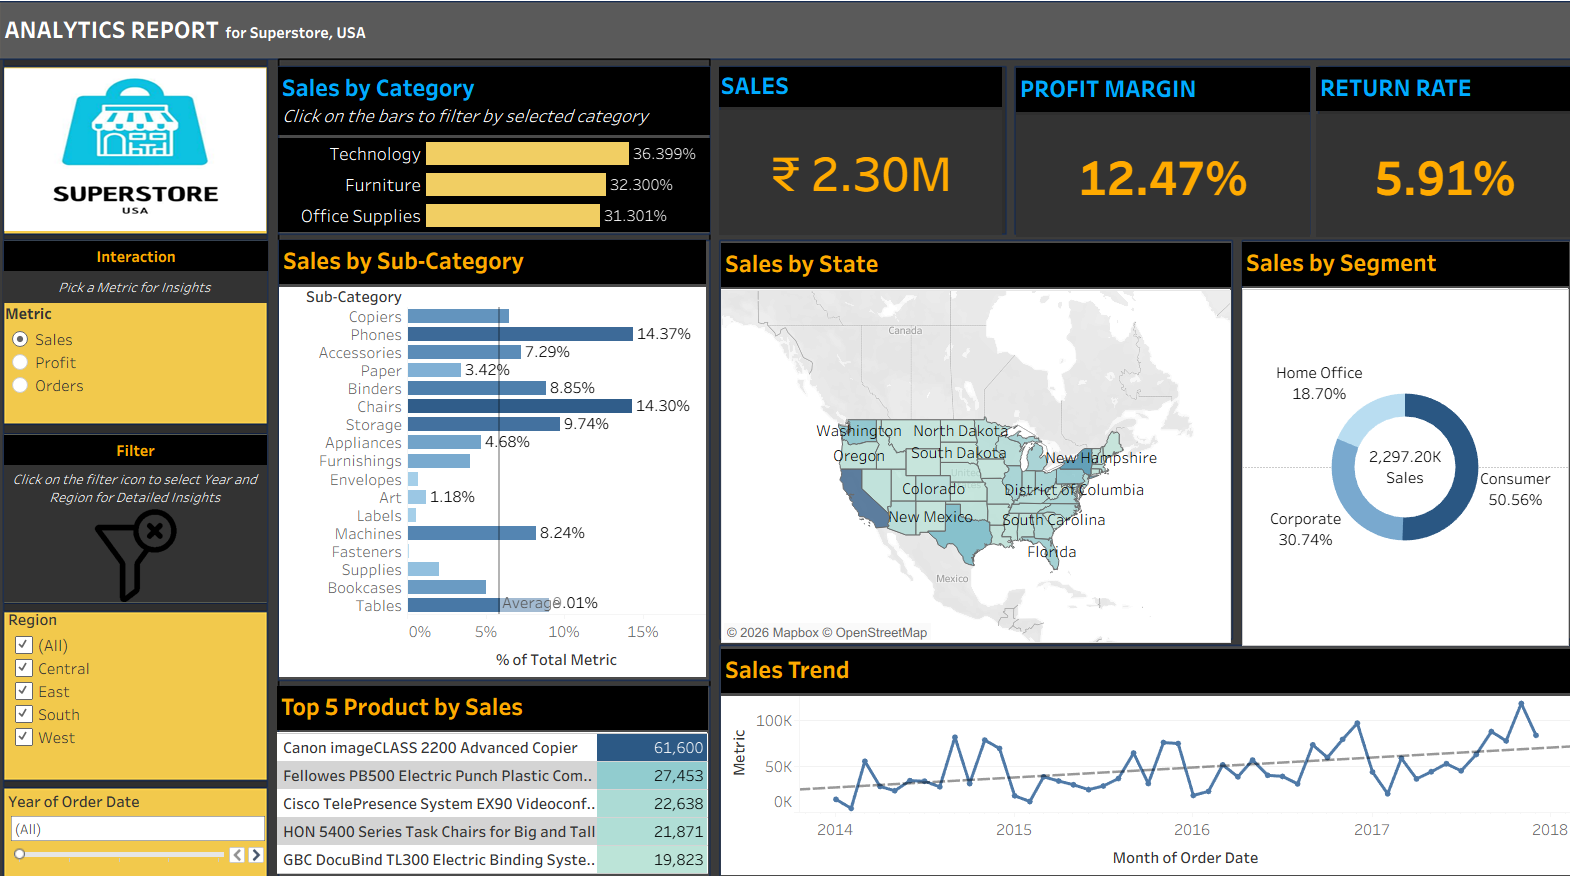

Layout of this report page (visuals, bound fields, positions):
{"tool":"tableau","page":{"name":"Analytics Report","canvas":[1600,900],"ordinal":0},"visuals":[{"type":"image","param":"Image/Slide1.PNG","box":[8,8,1584,884]},{"type":"text","box":[15,16,434,48]},{"type":"worksheet","title":"Sales By Category","mark":"Automatic","rows":["Category"],"cols":["Calculation_1255958603579395"],"box":[292,78,432,165]},{"type":"worksheet","title":"SALES","mark":"Automatic","box":[733,78,283,168]},{"type":"worksheet","title":"RETURN RATE","mark":"Automatic","box":[1330,78,257,170]},{"type":"image","param":"Image/Logo - Copy.png","box":[18,79,262,167]},{"type":"worksheet","title":"PROFIT MARGIN","mark":"Automatic","box":[1030,79,294,169]},{"type":"worksheet","title":"Sales By Sub-Category","mark":"Automatic","rows":["Sub-Category"],"cols":["Calculation_1255958603579395"],"box":[293,251,427,437]},{"type":"text","box":[18,252,264,30]},{"type":"worksheet","title":"Sales By Segment","mark":"Pie","rows":["Calculation_0145451171995653","Calculation_0145451172016135"],"box":[1256,253,327,404]},{"type":"worksheet","title":"Sales By State","mark":"Automatic","box":[735,254,510,400]},{"type":"text","box":[17,282,264,32]},{"type":"parameter","param":"[Parameters].[Parameter 1255958602371072]","box":[19,314,261,120]},{"type":"text","box":[18,446,263,30]},{"type":"text","box":[18,476,263,46]},{"type":"dashboard-object","box":[18,520,263,93]},{"type":"filter","title":"Sales By State","param":"[federated.15wvr6j06k6v871dcykzk197liuz].[none:Region:nk]","box":[18,616,268,182]},{"type":"worksheet","title":"Sales Trend","mark":"Line","rows":["Calculation_1255958603579395"],"cols":["Order Date"],"box":[735,660,851,226]},{"type":"worksheet","title":"Top 5 Products by Sales","mark":"Square","box":[291,697,431,188]}]}

Visuals, with their boxes in screenshot pixels (x1, y1, x2, y2), scaled from the page's 1600x900 canvas onto the 1570x876 screenshot:
image: select_region(8, 8, 1562, 868)
text: select_region(15, 16, 441, 62)
"Sales By Category" worksheet: select_region(287, 76, 710, 237)
"SALES" worksheet: select_region(719, 76, 997, 239)
"RETURN RATE" worksheet: select_region(1305, 76, 1557, 241)
image: select_region(18, 77, 275, 239)
"PROFIT MARGIN" worksheet: select_region(1011, 77, 1299, 241)
"Sales By Sub-Category" worksheet: select_region(288, 244, 706, 670)
text: select_region(18, 245, 277, 274)
"Sales By Segment" worksheet (Pie marks): select_region(1232, 246, 1553, 639)
"Sales By State" worksheet: select_region(721, 247, 1222, 637)
text: select_region(17, 274, 276, 306)
parameter: select_region(19, 306, 275, 422)
text: select_region(18, 434, 276, 463)
text: select_region(18, 463, 276, 508)
dashboard-object: select_region(18, 506, 276, 597)
"Sales By State" filter: select_region(18, 600, 281, 777)
"Sales Trend" worksheet (Line marks): select_region(721, 642, 1556, 862)
"Top 5 Products by Sales" worksheet (Square marks): select_region(286, 678, 708, 861)
